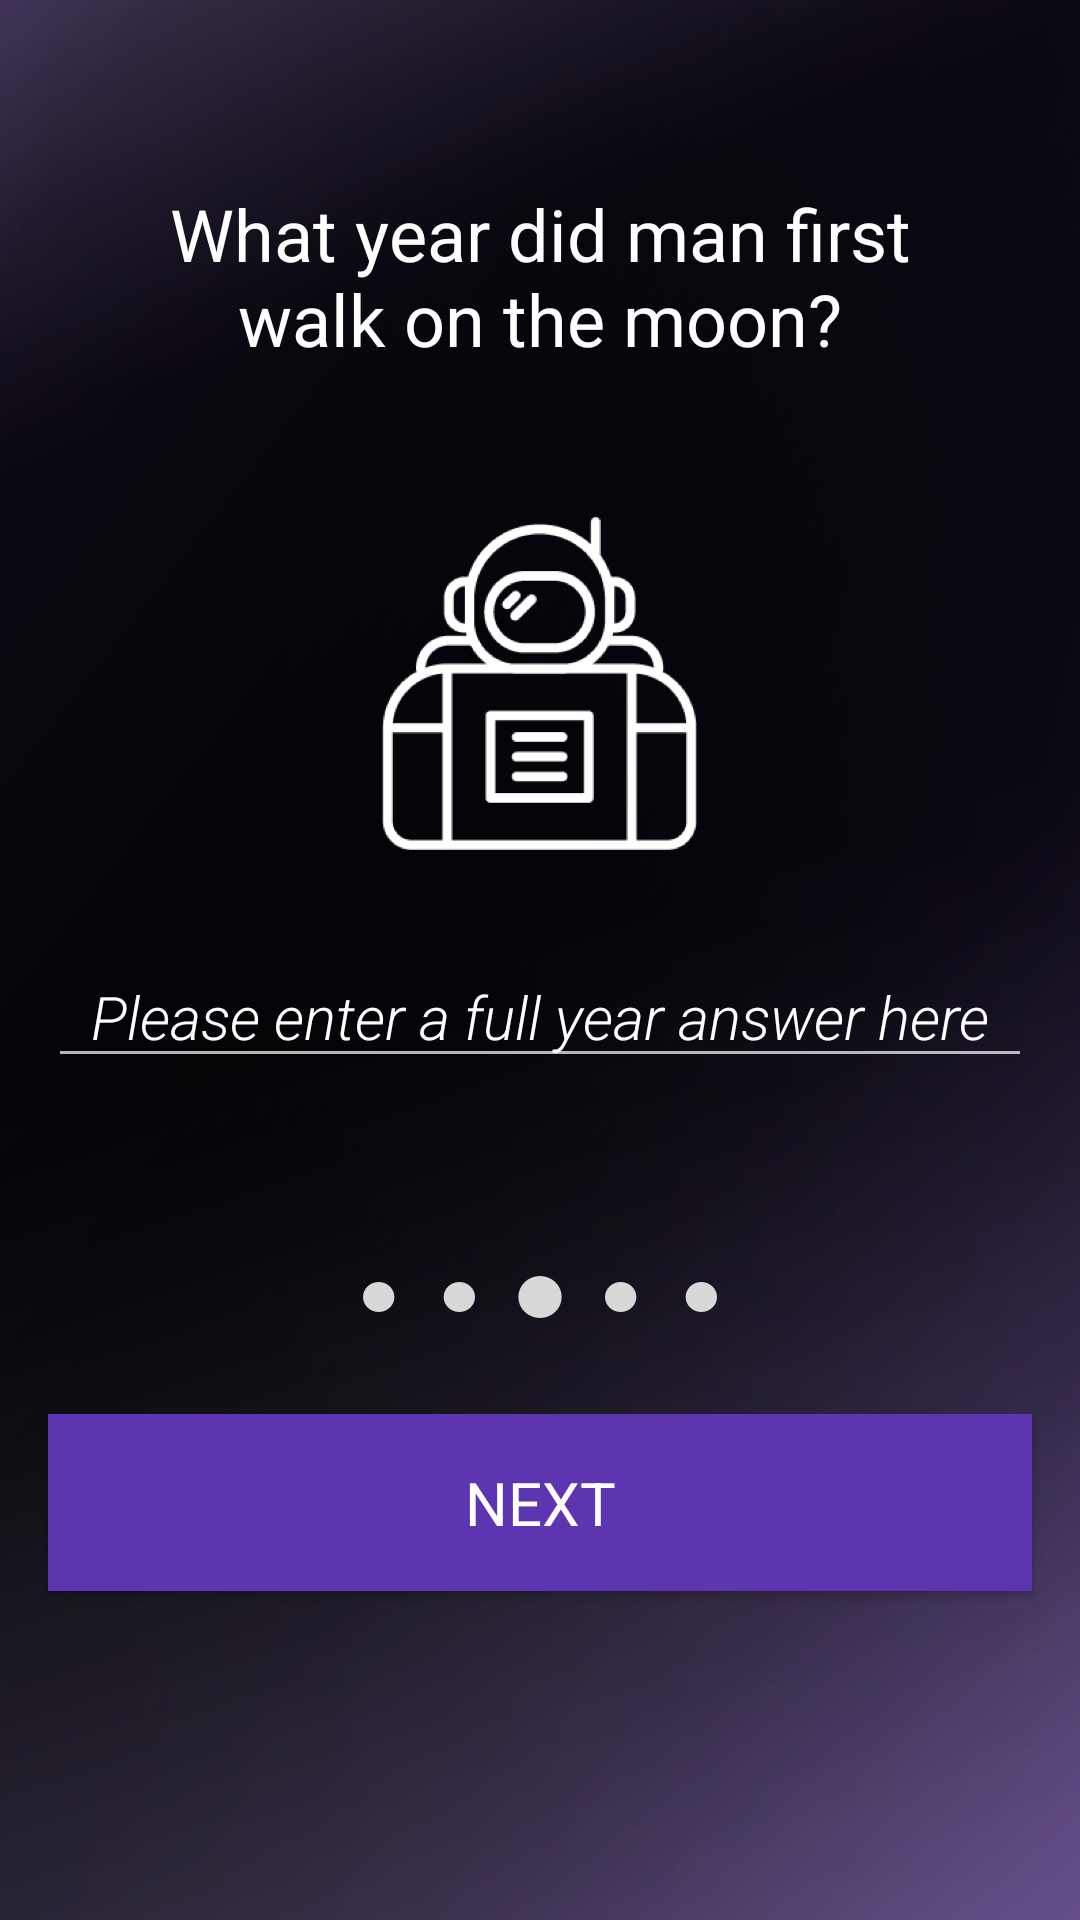

Named icons in this screenshot (1080px×1920px) and their bounding boxes, (x1, y1, x2, y2):
spaceman: (382, 517, 697, 850)
